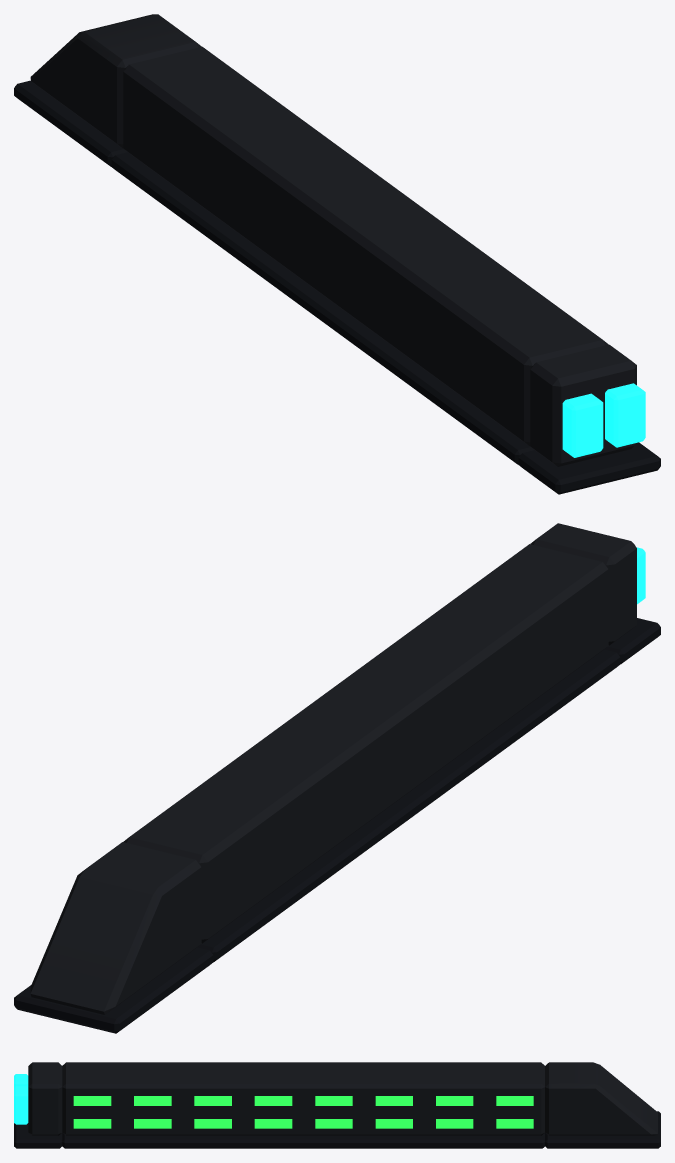
The model's file is rocket_led.glb.
3 renders of one model, top to bottom at view 1: azimuth 30°, elevation 25°; view 2: azimuth 150°, elevation 25°; view 3: azimuth 270°, elevation 25°, orthographic. The views are drawn at different scales.
Parts seen in each view (by area): view 1: rocket_led_MID_deco_body, rocket_led_MID_deco_trim, rocket_led_TAIL_deco_body, rocket_led_HEAD_deco_body, rocket_led_HEAD_deco_neon, rocket_led_HEAD_deco_trim, rocket_led_TAIL_deco_trim; view 2: rocket_led_MID_deco_body, rocket_led_TAIL_deco_body, rocket_led_MID_deco_trim, rocket_led_HEAD_deco_body, rocket_led_TAIL_deco_trim, rocket_led_HEAD_deco_trim; view 3: rocket_led_MID_deco_body, rocket_led_TAIL_deco_body, rocket_led_MID_deco_trim, rocket_led_MID_deco_led, rocket_led_HEAD_deco_body, rocket_led_TAIL_deco_trim, rocket_led_HEAD_deco_trim, rocket_led_HEAD_deco_neon.
Boxes of the visible parts, x1,y1,x2,y2 form: rocket_led_MID_deco_body: [123, 46, 608, 445]; rocket_led_MID_deco_trim: [111, 152, 534, 464]; rocket_led_TAIL_deco_body: [30, 14, 201, 148]; rocket_led_HEAD_deco_body: [530, 344, 636, 466]; rocket_led_HEAD_deco_neon: [562, 383, 645, 457]; rocket_led_HEAD_deco_trim: [518, 442, 660, 494]; rocket_led_TAIL_deco_trim: [14, 80, 127, 166]; rocket_led_MID_deco_body: [123, 544, 608, 943]; rocket_led_TAIL_deco_body: [30, 842, 201, 1014]; rocket_led_MID_deco_trim: [197, 649, 620, 962]; rocket_led_HEAD_deco_body: [530, 523, 636, 645]; rocket_led_TAIL_deco_trim: [14, 947, 213, 1033]; rocket_led_HEAD_deco_trim: [604, 618, 660, 664]; rocket_led_MID_deco_body: [62, 1062, 544, 1135]; rocket_led_TAIL_deco_body: [545, 1062, 657, 1135]; rocket_led_MID_deco_trim: [62, 1133, 544, 1148]; rocket_led_MID_deco_led: [73, 1096, 533, 1128]; rocket_led_HEAD_deco_body: [28, 1062, 62, 1135]; rocket_led_TAIL_deco_trim: [545, 1111, 660, 1148]; rocket_led_HEAD_deco_trim: [14, 1123, 62, 1148]; rocket_led_HEAD_deco_neon: [14, 1074, 28, 1124].
Size of the model in its own units: 0.15 by 0.14 by 1.34.
